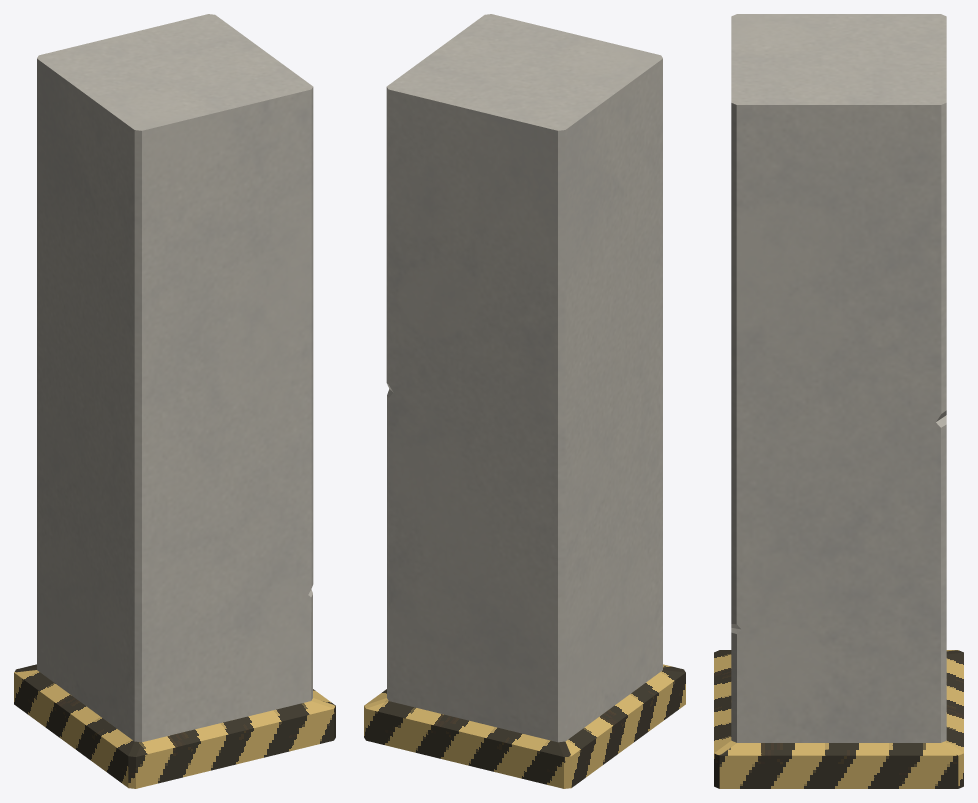
File: Concrete_pillar.glb
3 views of the same model, side by side, from view 1: azimuth 30°, elevation 25°; view 2: azimuth 150°, elevation 25°; view 3: azimuth 270°, elevation 25° (orthographic). The views are drawn at different scales.
Parts seen in each view (by area): view 1: Cube.003; view 2: Cube.003; view 3: Cube.003.
Boxes of the visible parts, <box> form: Cube.003: <box>14,14,335,788</box>; Cube.003: <box>364,14,685,788</box>; Cube.003: <box>714,14,963,788</box>.
Size of the model in its own units: 1.13 by 3.39 by 1.13.
Materials: 2 (2 with a texture image).
